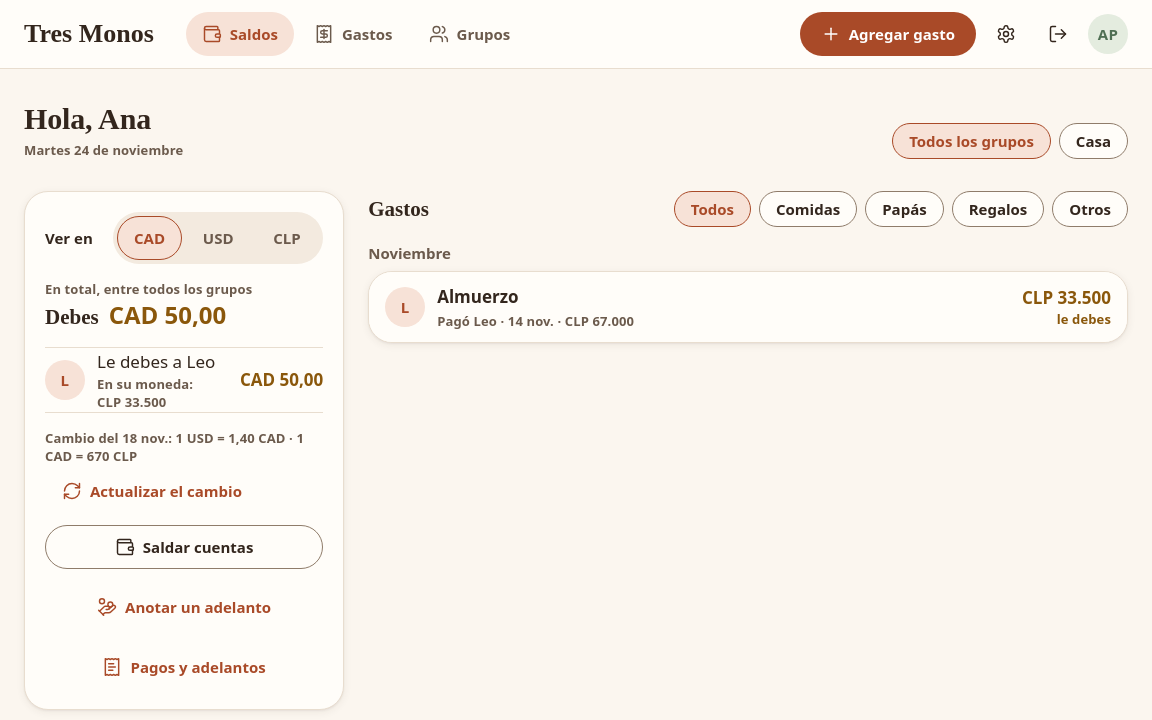
Test: DashboardScreen › an expense › shows a failure to load it, not an empty expense
Click the button "Almuerzo" at (405, 307), box [369, 272, 1127, 342]
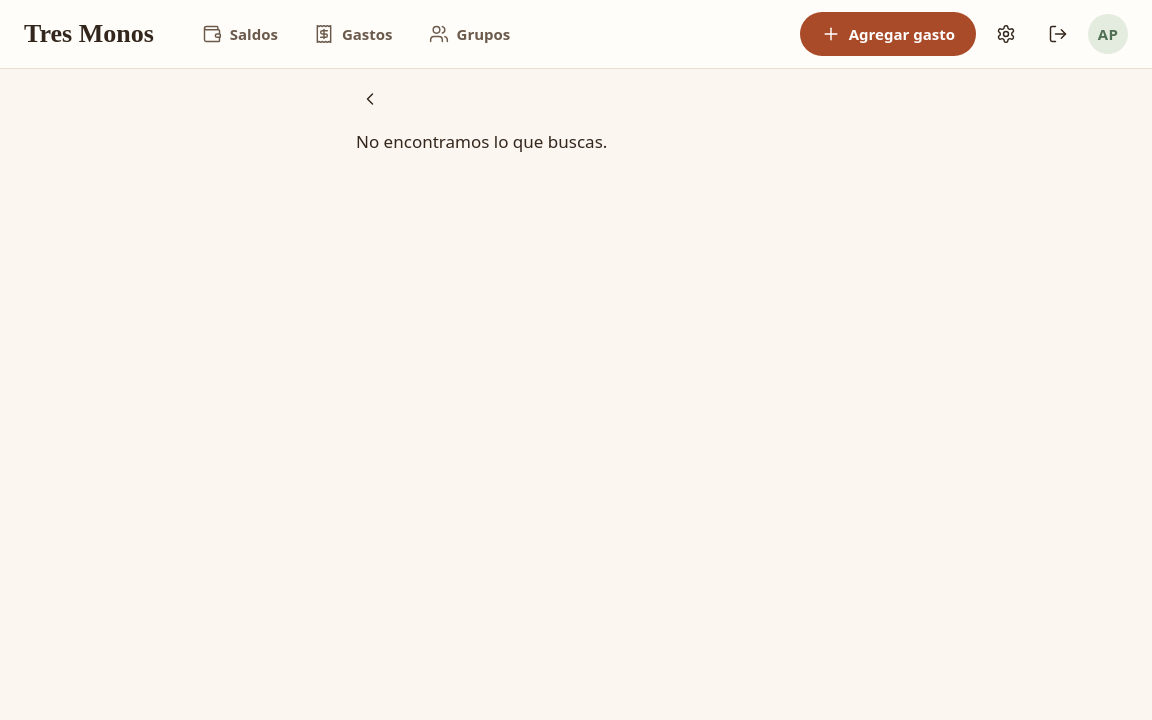
Expected: the text "No encontramos lo que buscas." is shown, [356, 130, 607, 153]
